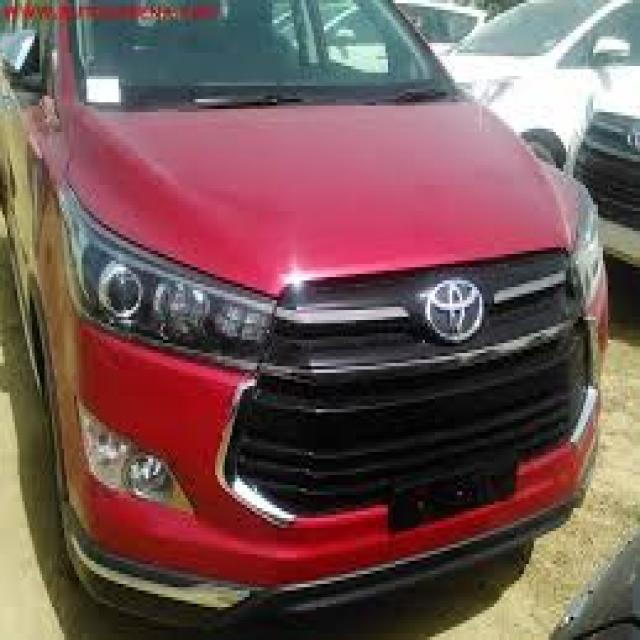light_vehicle: (0, 0, 611, 630)
